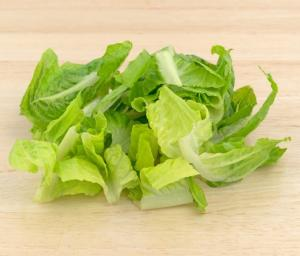chopped lettuce: (22, 57, 257, 196)
